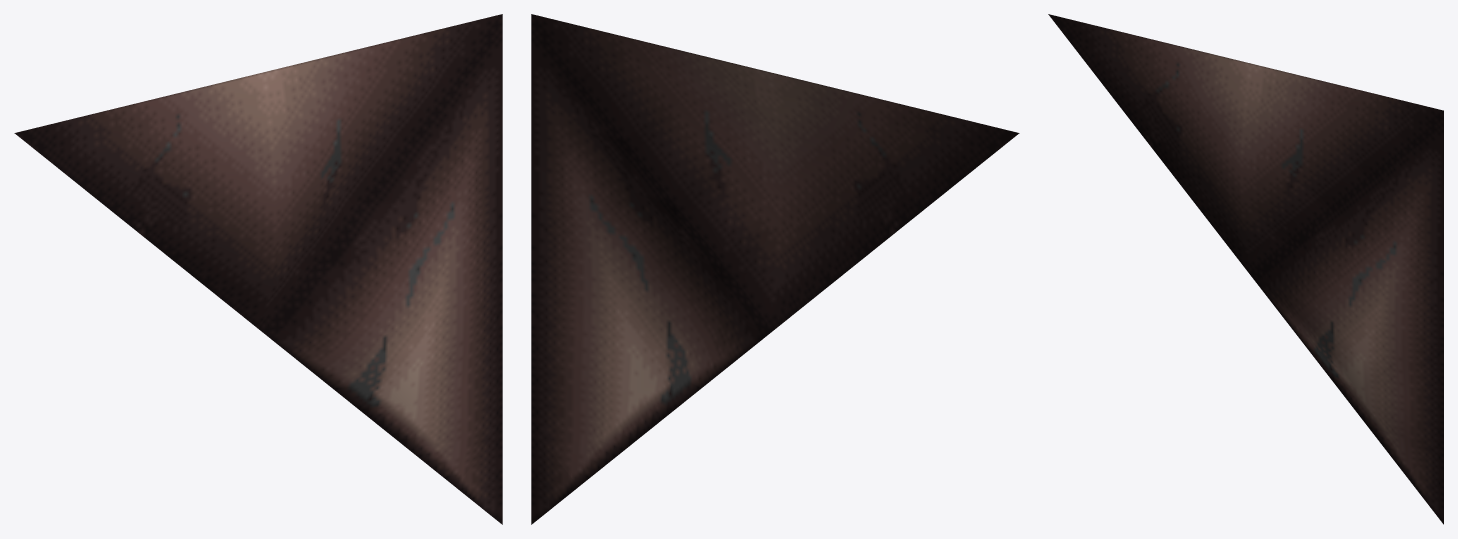
Rendered from eng2_5_slice45.fbx.
The picture shows the model from 3 angles, left to right: view 1: azimuth 30°, elevation 25°; view 2: azimuth 150°, elevation 25°; view 3: azimuth 330°, elevation 25°; orthographic projection. The views are drawn at different scales.
Visible parts, largest first — view 1: eng2_5_slice45_mesh; view 2: eng2_5_slice45_mesh; view 3: eng2_5_slice45_mesh.
Part boxes in pixels (box(x1,y1,x2,y2)): eng2_5_slice45_mesh: box(14, 14, 502, 524); eng2_5_slice45_mesh: box(531, 14, 1019, 524); eng2_5_slice45_mesh: box(1048, 14, 1443, 524).
Bounding box in the file's own units: 256 × 256 × 9.77.
